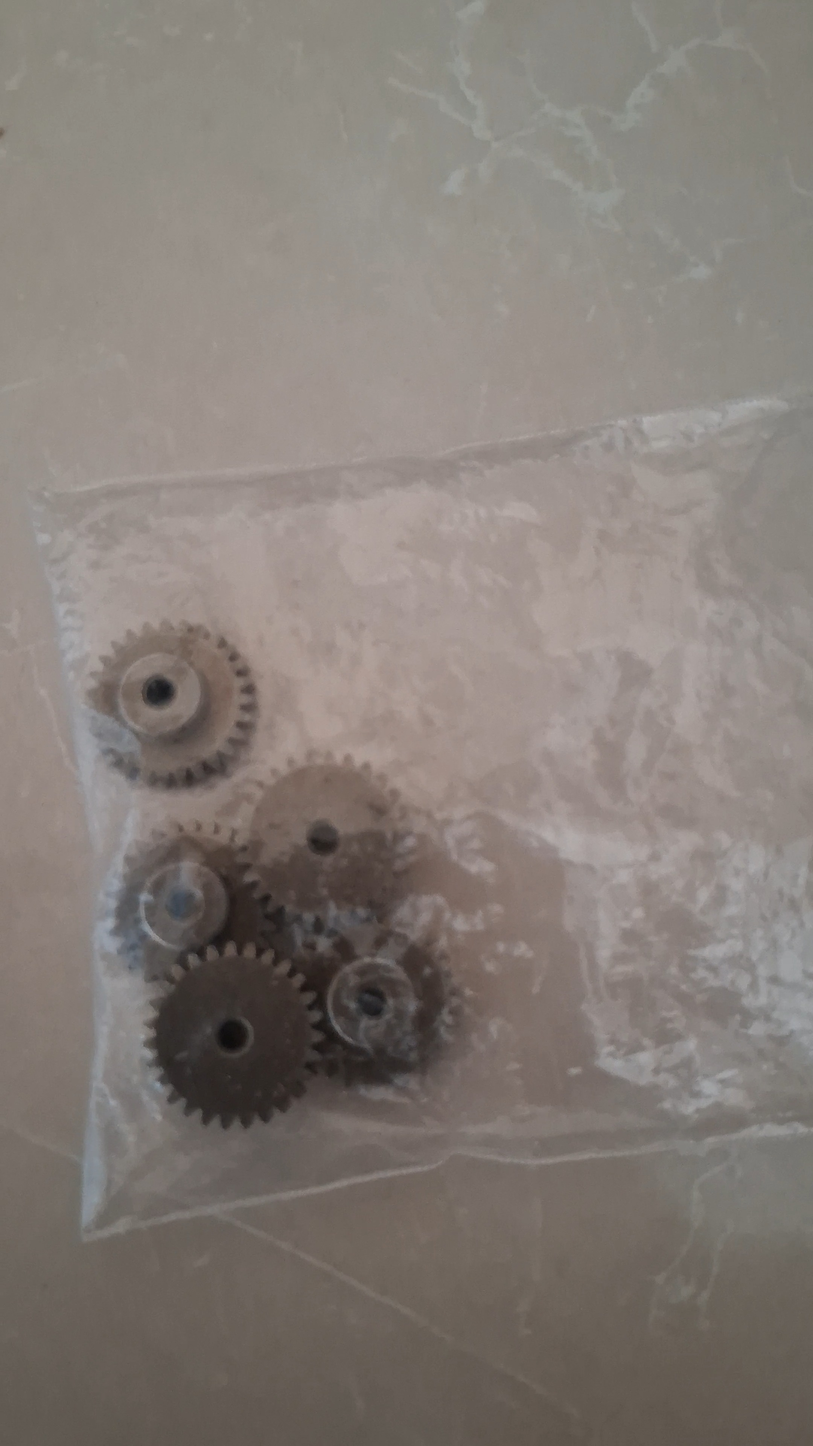spur gear: (147, 943, 321, 1127), (87, 622, 256, 787), (285, 921, 460, 1077), (251, 755, 414, 917), (113, 824, 270, 979)
